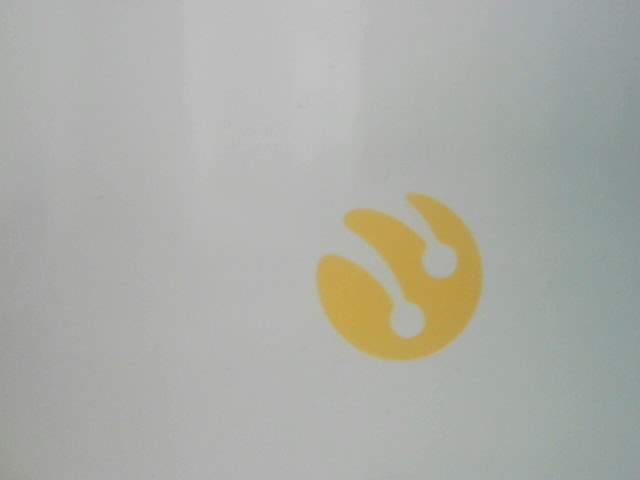AV_H3600Yellow: (306, 186, 510, 363)
